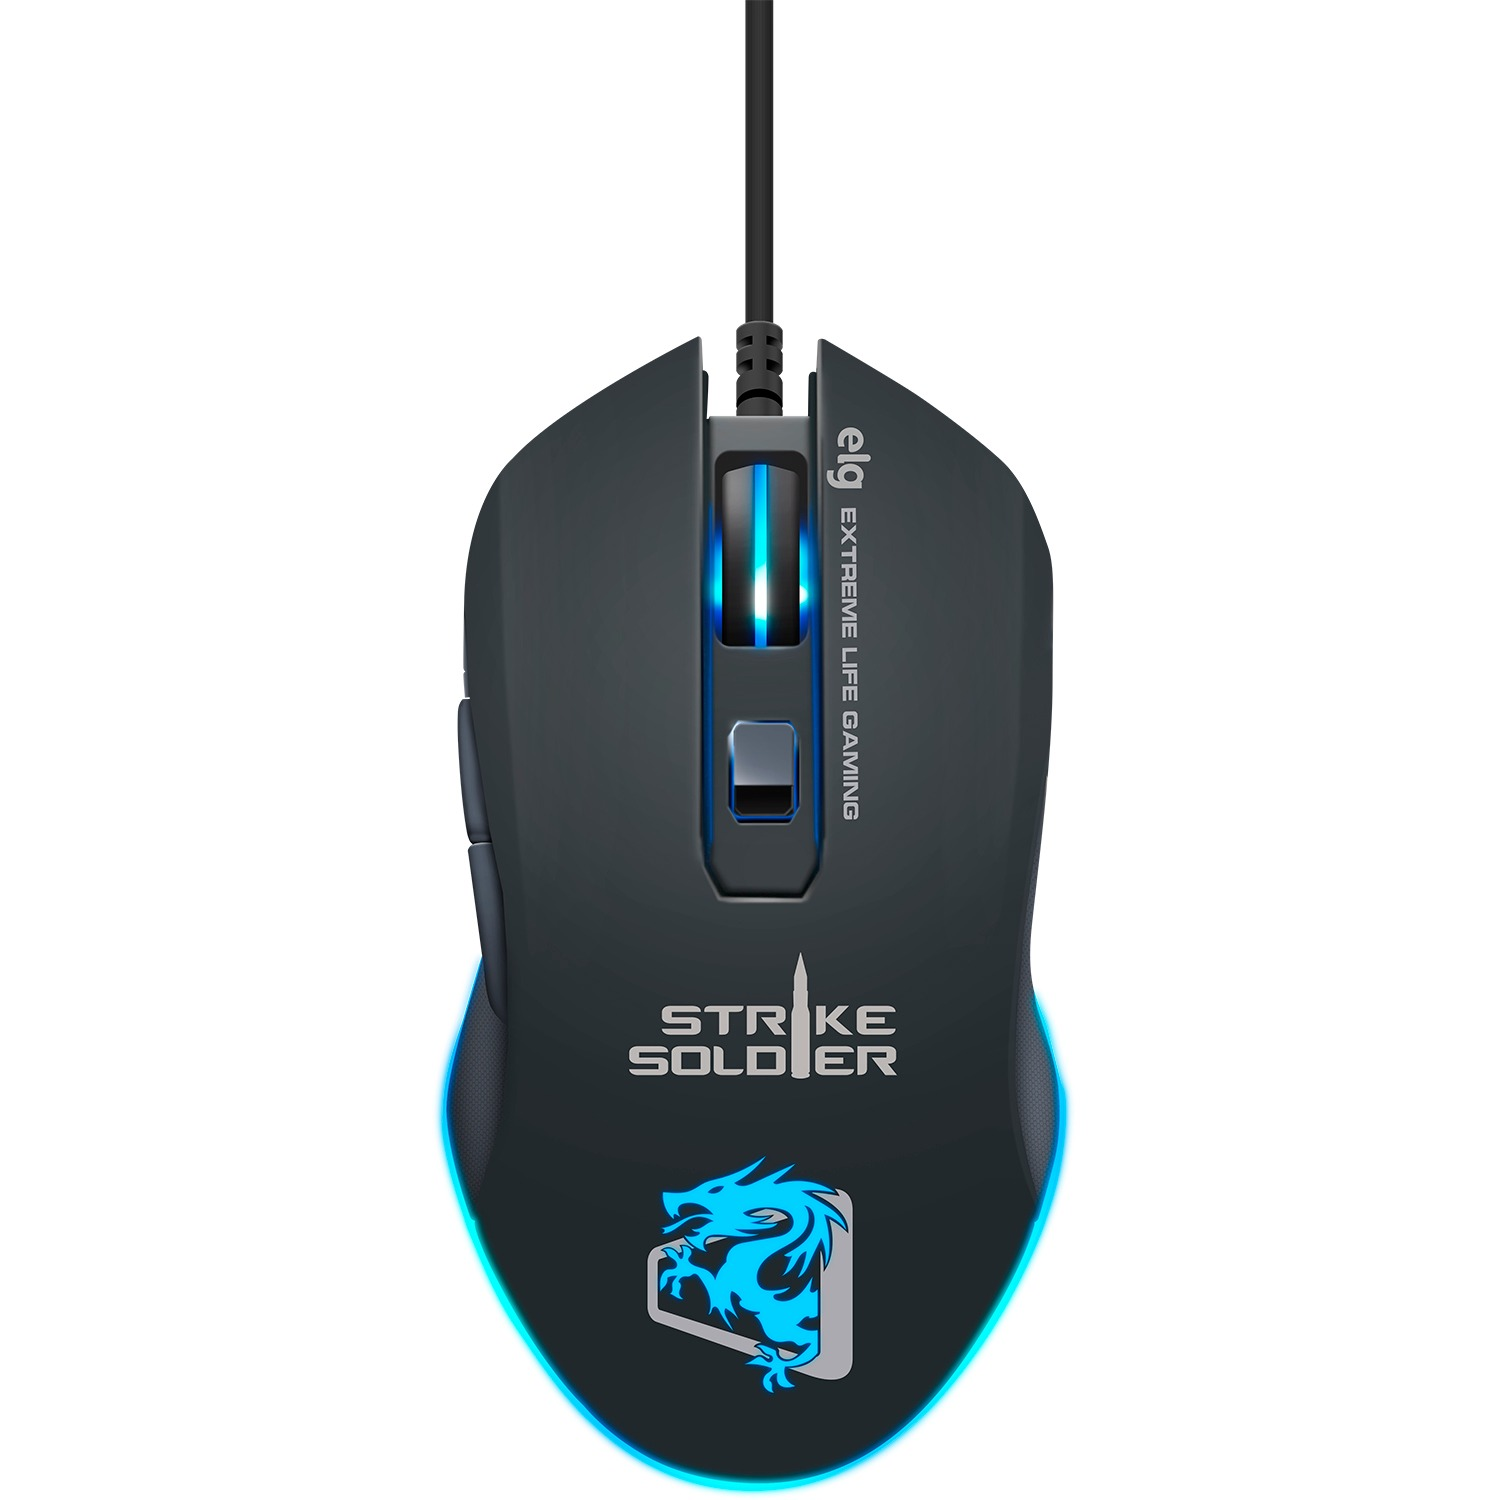mouse: (405, 330, 1113, 1500)
